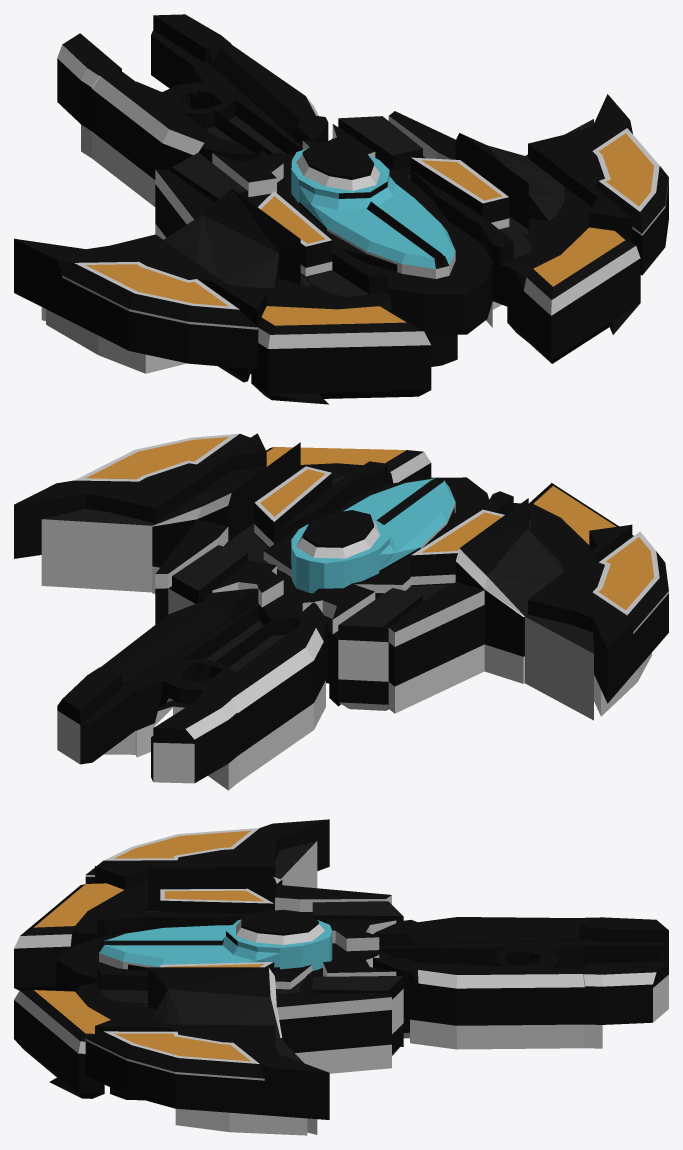
The model's file is circleFlat.obj.
3 views of the same model, one above another, from view 1: azimuth 30°, elevation 25°; view 2: azimuth 150°, elevation 25°; view 3: azimuth 270°, elevation 25° (orthographic). The views are drawn at different scales.
Visible parts, largest first — view 1: Cube_Cube.001_Cube_Cube.001_Material.012, Cube_Cube.001_Cube_Cube.001_Material.015, Cube_Cube.001_Cube_Cube.001_Material.016, Cube_Cube.001_Cube_Cube.001_Material.014, Cube_Cube.001_Cube_Cube.001_Material.013; view 2: Cube_Cube.001_Cube_Cube.001_Material.012, Cube_Cube.001_Cube_Cube.001_Material.015, Cube_Cube.001_Cube_Cube.001_Material.017, Cube_Cube.001_Cube_Cube.001_Material.016, Cube_Cube.001_Cube_Cube.001_Material.014, Cube_Cube.001_Cube_Cube.001_Material.013; view 3: Cube_Cube.001_Cube_Cube.001_Material.012, Cube_Cube.001_Cube_Cube.001_Material.015, Cube_Cube.001_Cube_Cube.001_Material.014, Cube_Cube.001_Cube_Cube.001_Material.016, Cube_Cube.001_Cube_Cube.001_Material.013, Cube_Cube.001_Cube_Cube.001_Material.017.
Boxes of the visible parts, x1,y1,x2,y2 form: Cube_Cube.001_Cube_Cube.001_Material.012: (14,14,668,404); Cube_Cube.001_Cube_Cube.001_Material.015: (41,44,668,373); Cube_Cube.001_Cube_Cube.001_Material.016: (164,115,593,297); Cube_Cube.001_Cube_Cube.001_Material.014: (86,133,653,325); Cube_Cube.001_Cube_Cube.001_Material.013: (291,148,455,268); Cube_Cube.001_Cube_Cube.001_Material.012: (14,433,668,782); Cube_Cube.001_Cube_Cube.001_Material.015: (41,433,668,790); Cube_Cube.001_Cube_Cube.001_Material.017: (41,519,593,783); Cube_Cube.001_Cube_Cube.001_Material.016: (42,475,593,672); Cube_Cube.001_Cube_Cube.001_Material.014: (86,437,654,609); Cube_Cube.001_Cube_Cube.001_Material.013: (291,478,455,593); Cube_Cube.001_Cube_Cube.001_Material.012: (14,819,668,1119); Cube_Cube.001_Cube_Cube.001_Material.015: (14,828,656,1135); Cube_Cube.001_Cube_Cube.001_Material.014: (34,830,264,1061); Cube_Cube.001_Cube_Cube.001_Material.016: (101,841,402,1062); Cube_Cube.001_Cube_Cube.001_Material.013: (99,919,332,970); Cube_Cube.001_Cube_Cube.001_Material.017: (281,841,668,1033).
Size of the model in its own units: 2.38 by 0.5144 by 2.6.
